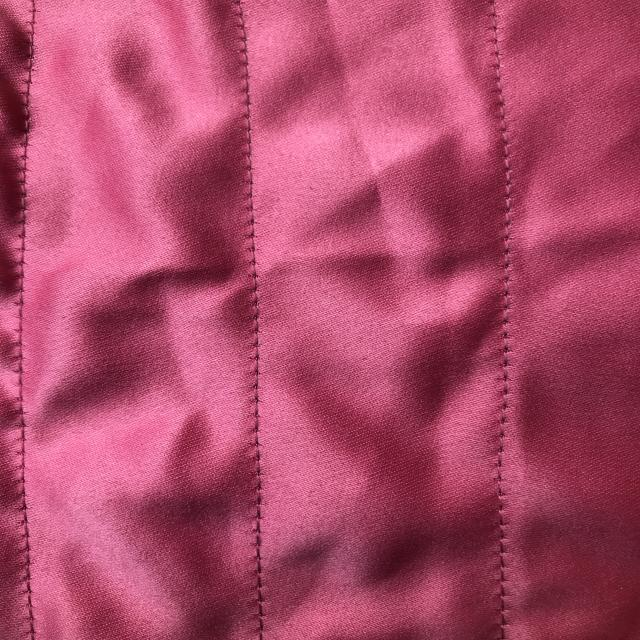good: (231, 203, 281, 437)
